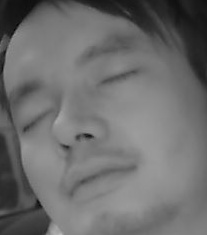blink: (22, 106, 59, 133), (97, 66, 135, 91)
mouth: (63, 154, 140, 201)
